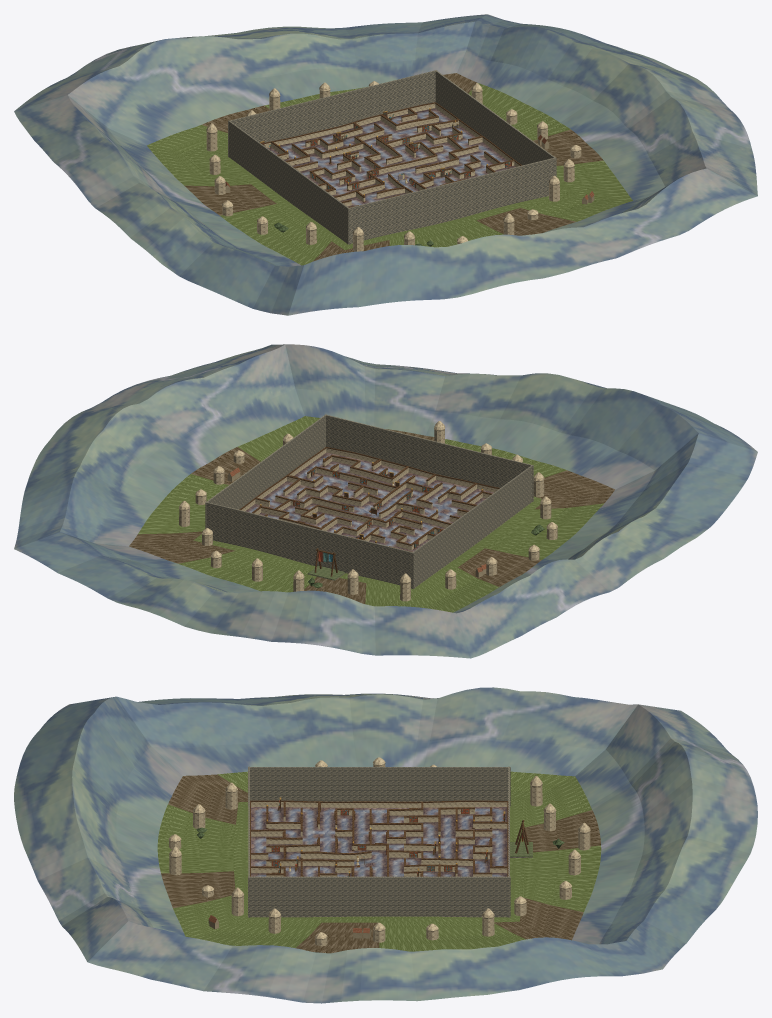
The model's file is LinenCourt.fbx.
3 renders of one model, top to bottom at view 1: azimuth 30°, elevation 25°; view 2: azimuth 150°, elevation 25°; view 3: azimuth 270°, elevation 25°, orthographic. The views are drawn at different scales.
Visible parts, largest first — view 1: Surroundings, C_Solids, Rim, Terrain, Horizon, Set; view 2: Surroundings, C_Solids, Rim, Terrain, Horizon, Set; view 3: Surroundings, C_Solids, Terrain, Rim, Horizon, Set.
Boxes of the visible parts, x1,y1,x2,y2 form: Surroundings: [14, 14, 757, 315]; C_Solids: [228, 70, 556, 244]; Rim: [264, 102, 521, 207]; Terrain: [268, 108, 515, 207]; Horizon: [206, 81, 581, 251]; Set: [259, 108, 511, 202]; Surroundings: [14, 344, 757, 658]; C_Solids: [205, 414, 533, 588]; Rim: [239, 447, 499, 551]; Terrain: [245, 452, 493, 551]; Horizon: [179, 421, 557, 601]; Set: [259, 456, 483, 576]; Surroundings: [14, 687, 757, 1003]; C_Solids: [248, 766, 510, 917]; Terrain: [251, 807, 507, 876]; Rim: [250, 800, 508, 876]; Horizon: [168, 757, 590, 946]; Set: [265, 797, 528, 876].
Size of the model in its own units: 34226 by 4201 by 34565.
